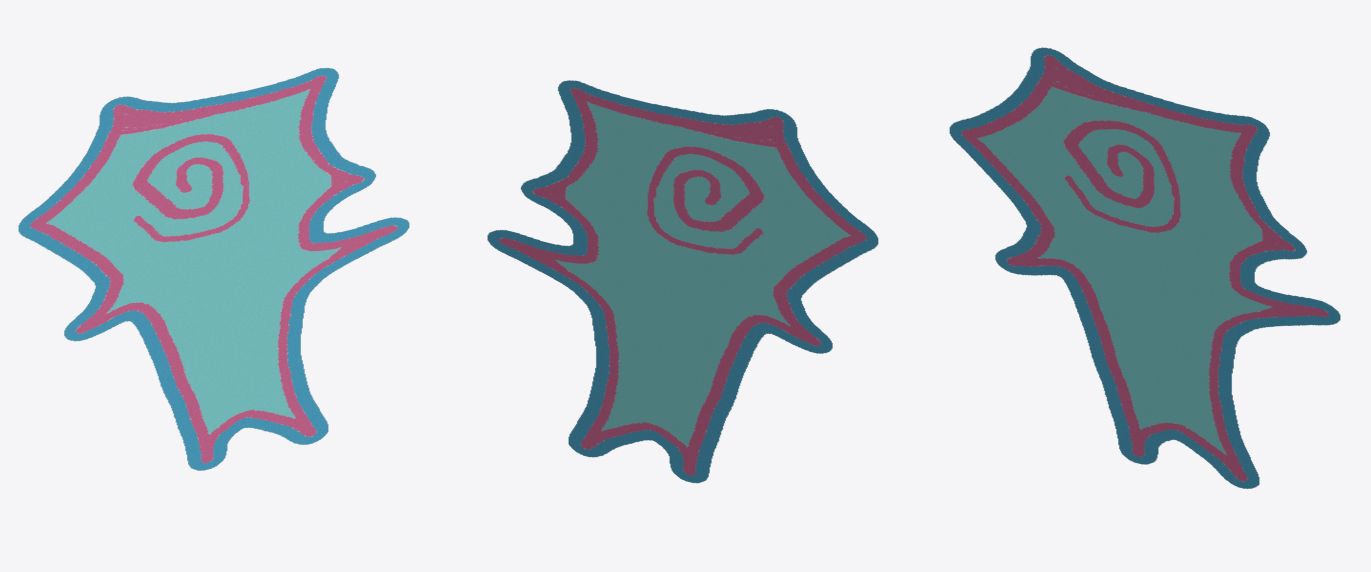
The picture shows the model from 3 angles, left to right: view 1: azimuth 30°, elevation 25°; view 2: azimuth 150°, elevation 25°; view 3: azimuth 330°, elevation 25°; orthographic projection.
Visible parts, largest first — view 1: 立方體; view 2: 立方體; view 3: 立方體.
Boxes of the visible parts, left/top/right/bottom form: 立方體: left=18, top=68, right=409, bottom=470; 立方體: left=487, top=80, right=878, bottom=483; 立方體: left=949, top=47, right=1340, bottom=488.
Size of the model in its own units: 1 by 1 by 0.0717.
1 material, 1 textured.
